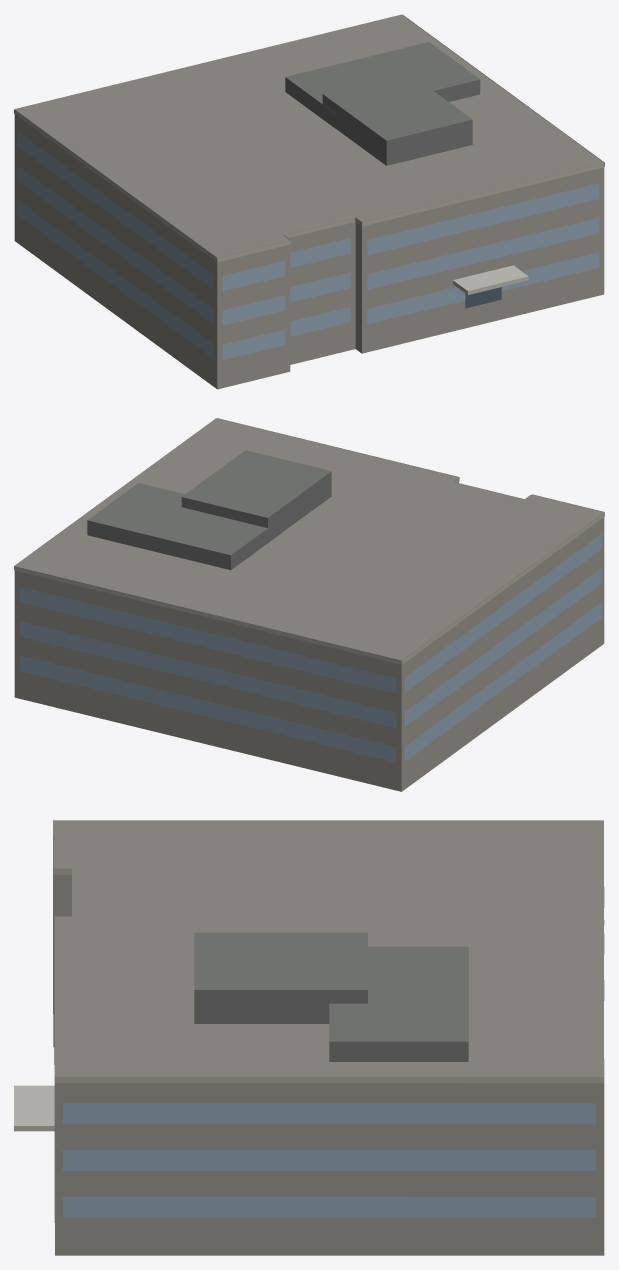
The model's file is arkansas-insurance-department.glb.
3 views of the same model, one above another, from view 1: azimuth 30°, elevation 25°; view 2: azimuth 150°, elevation 25°; view 3: azimuth 270°, elevation 25° (orthographic). The views are drawn at different scales.
Visible parts, largest first — view 1: arkansas_insurance_department; view 2: arkansas_insurance_department; view 3: arkansas_insurance_department.
Boxes of the visible parts, box(x1,y1,x2,y2) form: arkansas_insurance_department: box(14, 14, 604, 389); arkansas_insurance_department: box(14, 418, 604, 791); arkansas_insurance_department: box(14, 820, 604, 1255).
Size of the model in its own units: 44.88 by 17.29 by 43.54.
